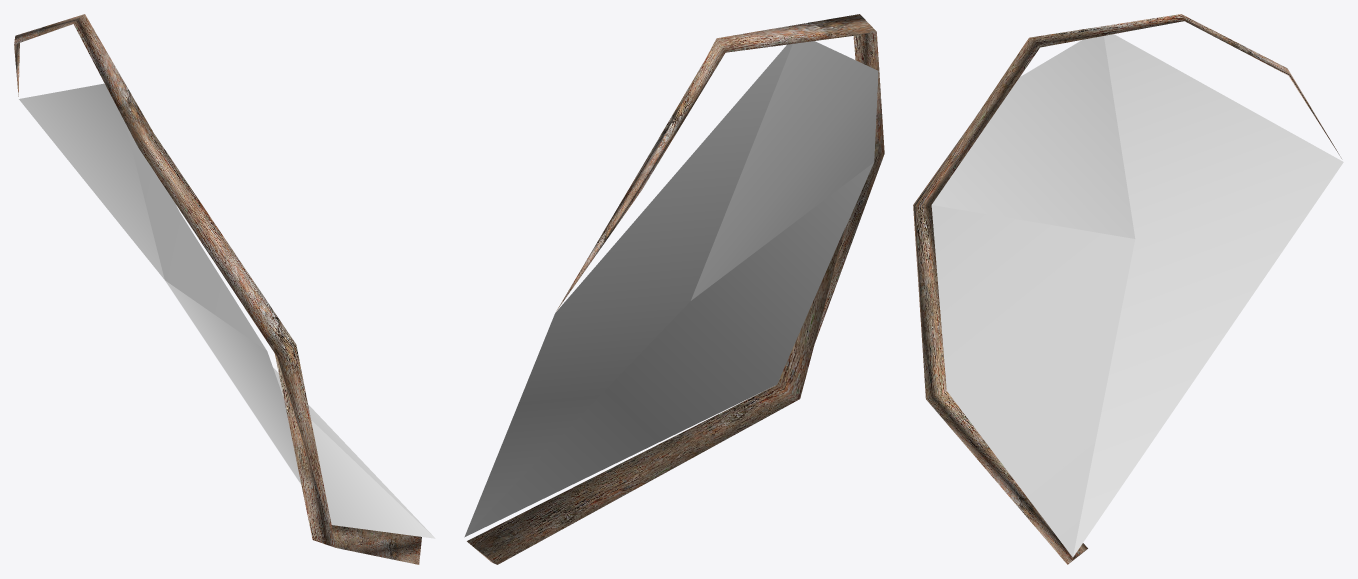
File: poi_lair_web_s02_l1.fbx
The picture shows the model from 3 angles, left to right: view 1: azimuth 30°, elevation 25°; view 2: azimuth 150°, elevation 25°; view 3: azimuth 270°, elevation 25°; orthographic projection. The views are drawn at different scales.
Visible parts, largest first — view 1: mesh_node; view 2: mesh_node; view 3: mesh_node.
Part boxes in pixels (box(x1,y1,x2,y2)): mesh_node: box(14, 14, 435, 564); mesh_node: box(464, 14, 884, 564); mesh_node: box(913, 14, 1343, 564).
Size of the model in its own units: 0.3535 by 0.5857 by 0.5095.
